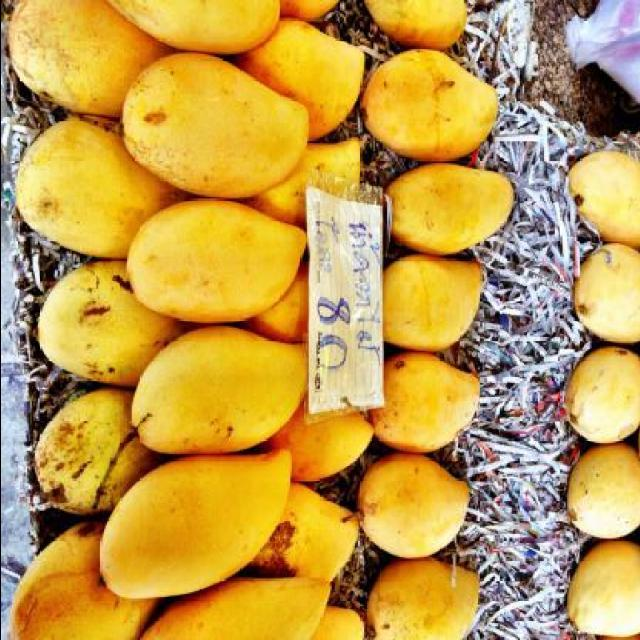Mango: (3, 0, 512, 638), (565, 152, 640, 639), (361, 39, 499, 155)
